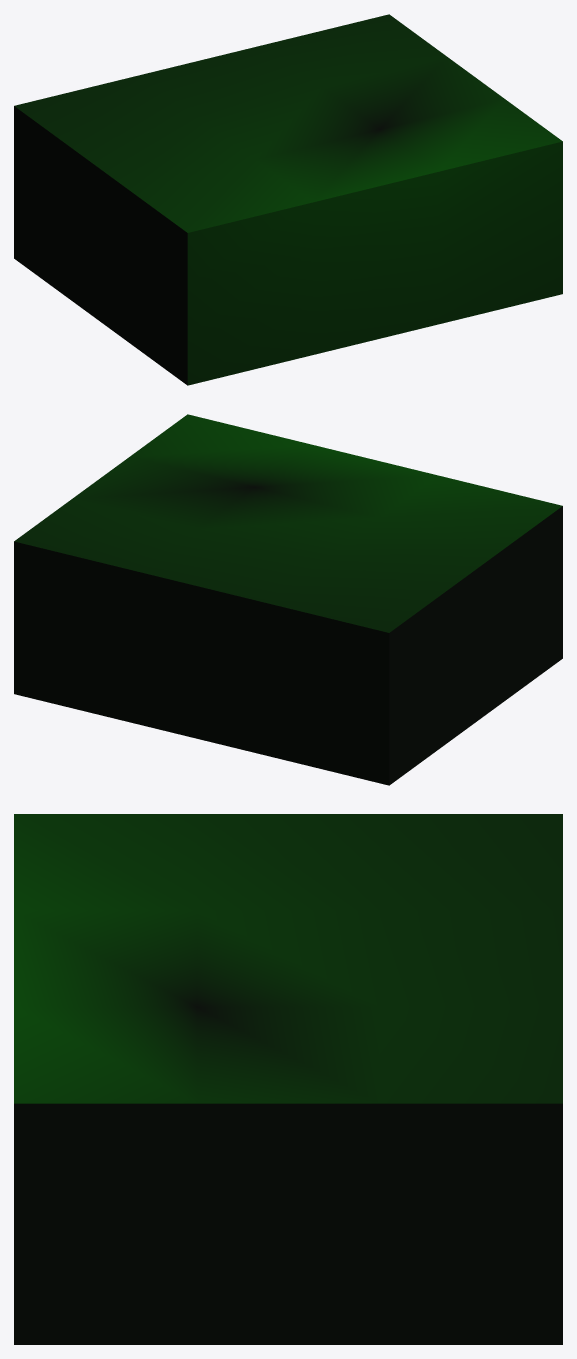
Rendered from vertexcolor.DAE.
3 renders of one model, top to bottom at view 1: azimuth 30°, elevation 25°; view 2: azimuth 150°, elevation 25°; view 3: azimuth 270°, elevation 25°, orthographic. The views are drawn at different scales.
Visible parts, largest first — view 1: Box01; view 2: Box01; view 3: Box01.
Part boxes in pixels (box(x1,y1,x2,y2)): Box01: box(14, 14, 562, 385); Box01: box(14, 414, 562, 785); Box01: box(14, 814, 562, 1344).
Bounding box in the file's own units: 220 × 176 × 85.33.
